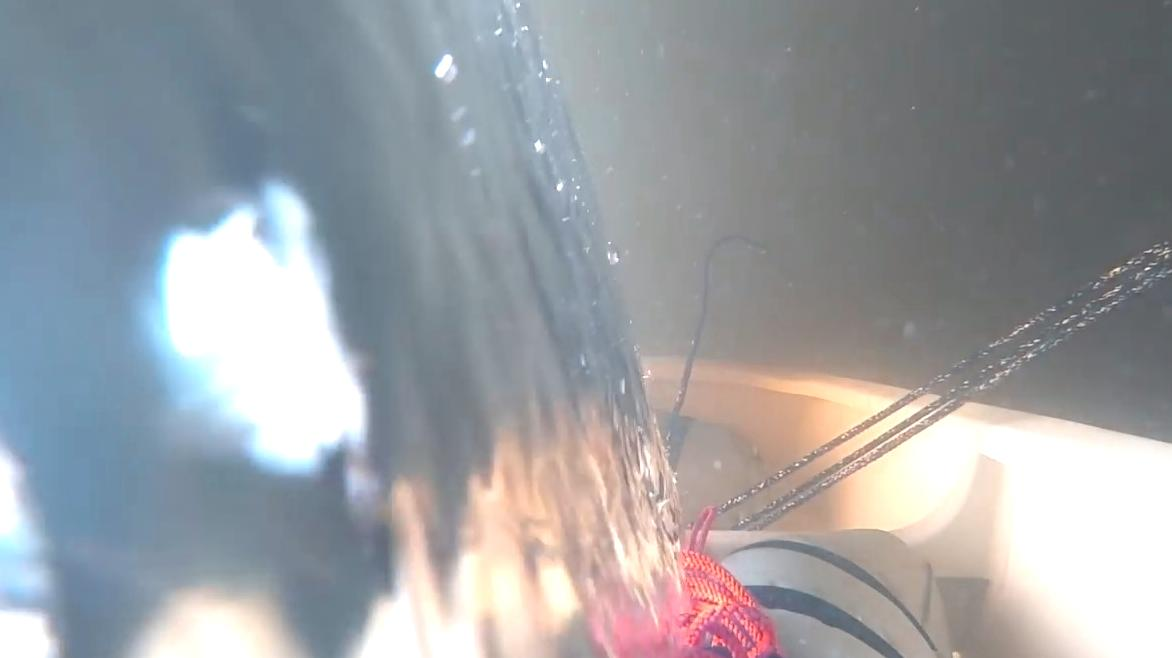boat: (640, 359, 1172, 658)
underwater: (0, 0, 1172, 658)
